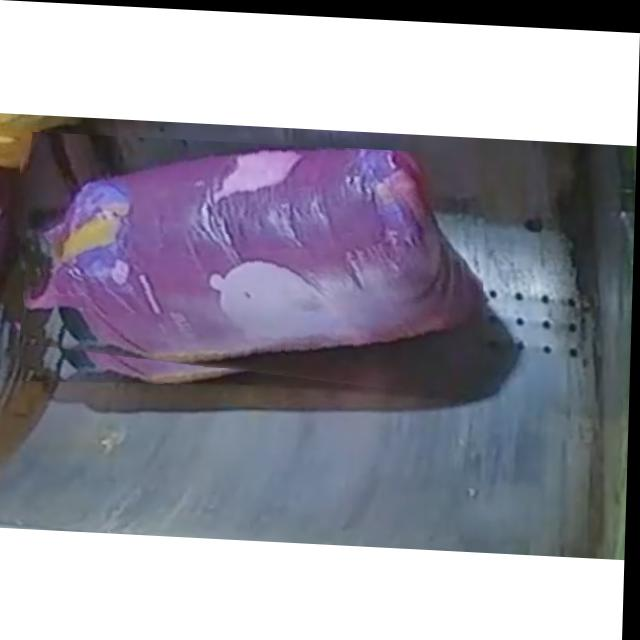other_trashbag: (24, 144, 484, 363)
